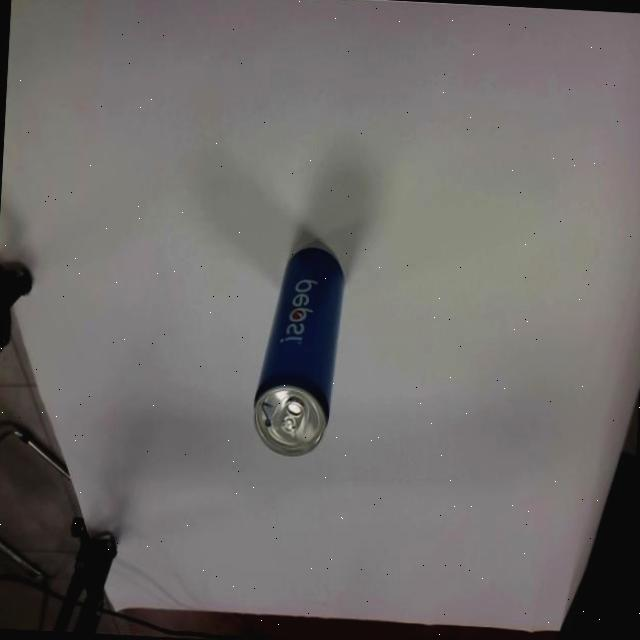debris: (250, 244, 347, 461)
